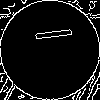I: (25, 25, 73, 45)
